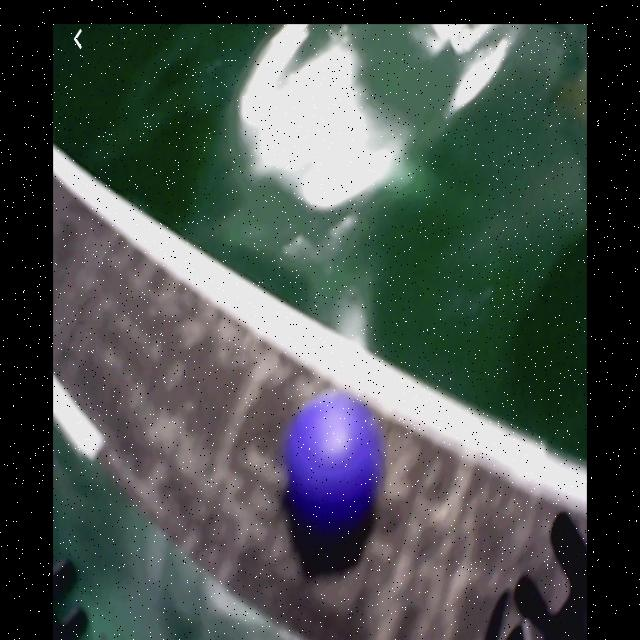ball: (285, 394, 384, 534)
